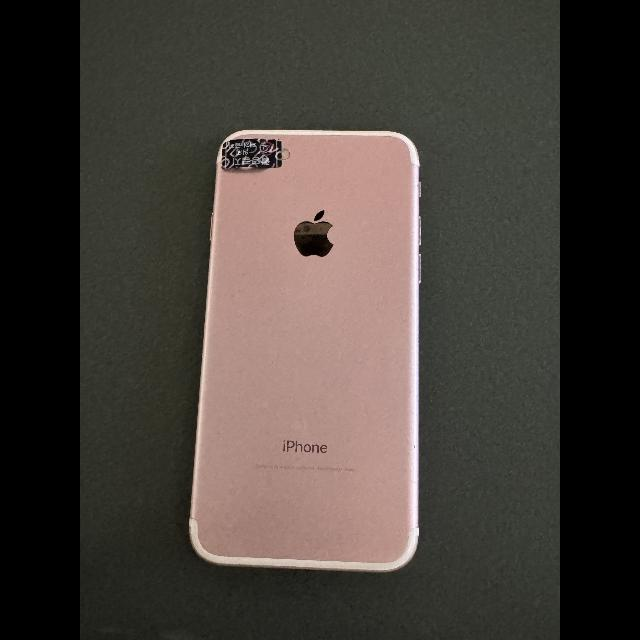phone: (190, 130, 420, 572)
sticker: (222, 139, 282, 170)
